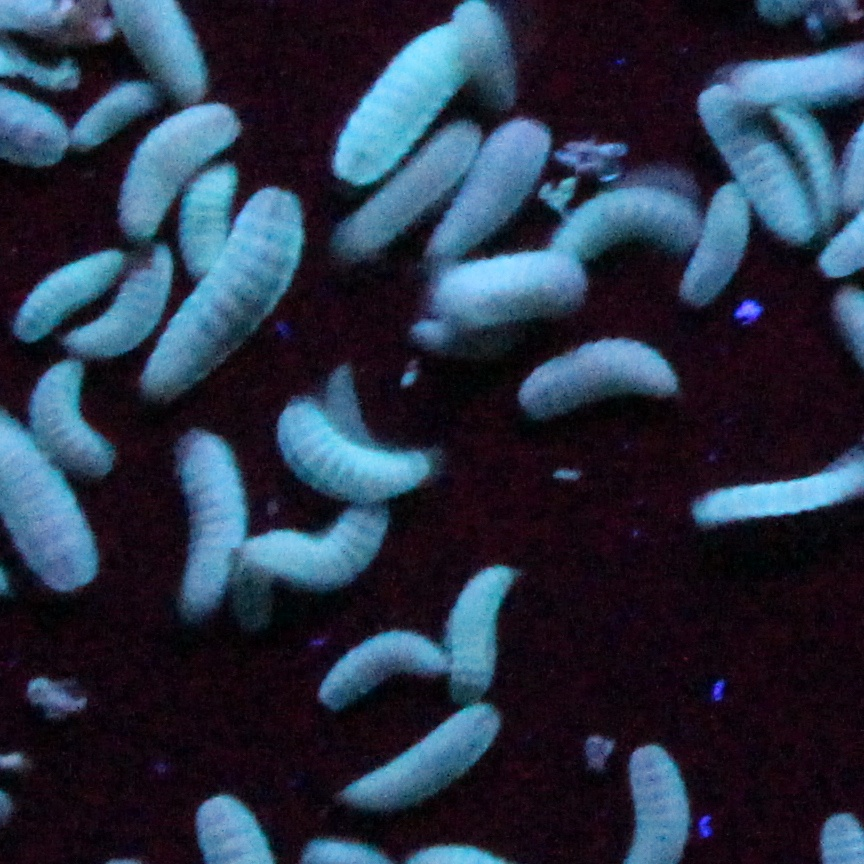larve: (141, 181, 316, 418), (335, 24, 469, 183), (696, 89, 808, 238), (349, 120, 475, 250), (128, 99, 245, 238), (437, 118, 543, 265), (275, 399, 429, 499), (345, 704, 486, 804), (171, 432, 241, 616), (426, 253, 578, 336), (526, 342, 678, 420), (73, 246, 180, 355), (237, 506, 384, 581), (557, 187, 696, 265), (445, 555, 514, 685), (320, 632, 435, 710), (31, 353, 106, 469), (688, 173, 755, 295), (10, 253, 104, 336), (778, 100, 835, 230), (184, 148, 239, 269), (73, 79, 159, 148)
